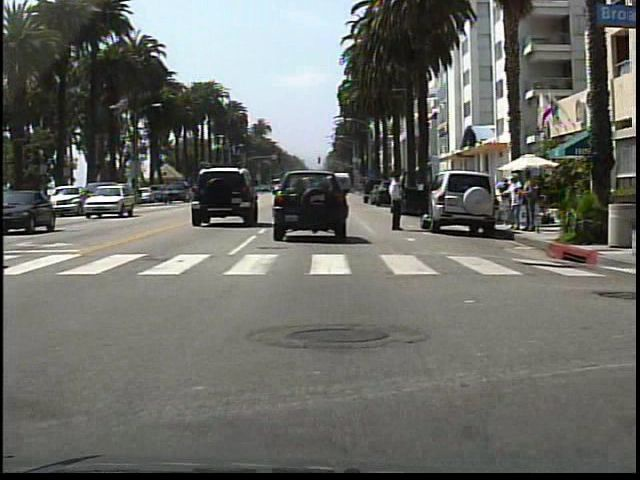person: (383, 167, 410, 234), (519, 166, 540, 233), (502, 166, 522, 235)
